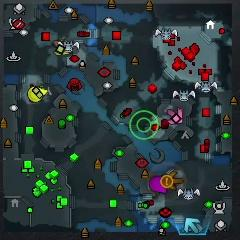Other: (130, 110, 158, 141), (160, 174, 174, 189)
p3: (150, 176, 167, 194)
p4: (28, 87, 48, 102)
x1: (167, 108, 183, 124)
x3: (184, 218, 200, 234)
x5: (167, 171, 182, 190)
